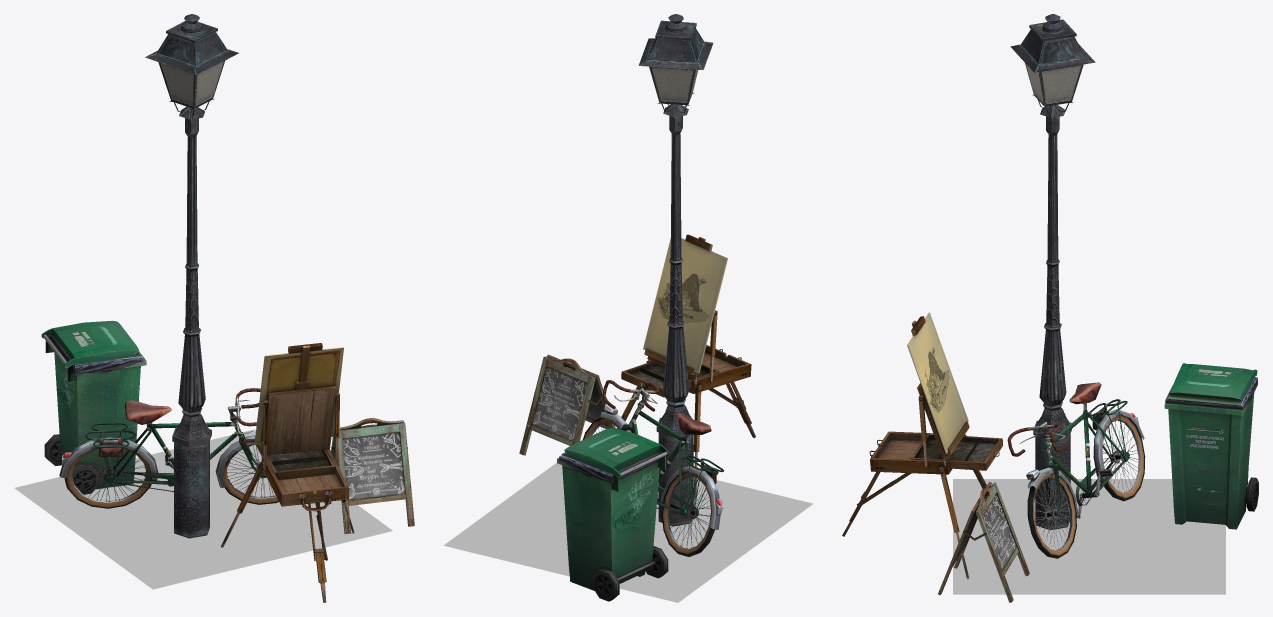
The model's file is PropsScene.fbx.
3 renders of one model, left to right at view 1: azimuth 30°, elevation 25°; view 2: azimuth 150°, elevation 25°; view 3: azimuth 270°, elevation 25°, orthographic. The views are drawn at different scales.
Visible parts, largest first — view 1: floor_grid, SM_FrenchEasel, SM_StreetLantern, SM_TrashBin, SM_PeugeotBicycle, SM_ShopSign; view 2: floor_grid, SM_TrashBin, SM_StreetLantern, SM_FrenchEasel, SM_PeugeotBicycle, SM_ShopSign; view 3: floor_grid, SM_TrashBin, SM_StreetLantern, SM_FrenchEasel, SM_PeugeotBicycle, SM_ShopSign.
Boxes of the visible parts, x1,y1,x2,y2 form: floor_grid: (14, 429, 392, 589); SM_FrenchEasel: (221, 343, 354, 602); SM_StreetLantern: (145, 14, 238, 538); SM_TrashBin: (41, 320, 146, 494); SM_PeugeotBicycle: (59, 388, 278, 508); SM_ShopSign: (324, 418, 414, 534); floor_grid: (444, 462, 813, 602); SM_TrashBin: (557, 427, 669, 601); SM_StreetLantern: (638, 14, 713, 526); SM_FrenchEasel: (617, 234, 755, 499); SM_PeugeotBicycle: (582, 380, 723, 556); SM_ShopSign: (519, 354, 615, 455); floor_grid: (953, 479, 1225, 594); SM_TrashBin: (1164, 363, 1258, 529); SM_StreetLantern: (1010, 14, 1095, 530); SM_FrenchEasel: (842, 312, 1002, 579); SM_PeugeotBicycle: (1007, 382, 1145, 558); SM_ShopSign: (938, 481, 1029, 602).
Size of the model in its own units: 226 by 411 by 305.
